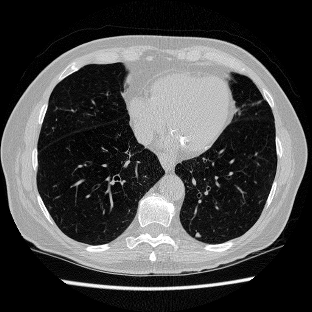nodule: (195, 232, 201, 238)
